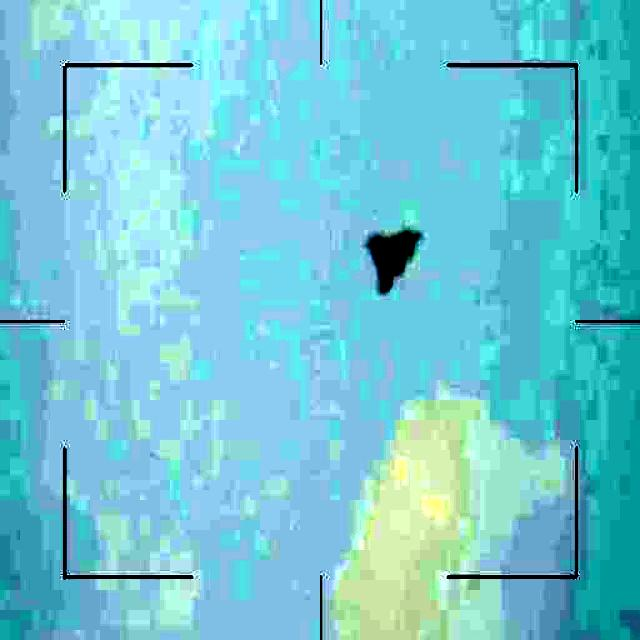bird: (364, 218, 415, 292)
